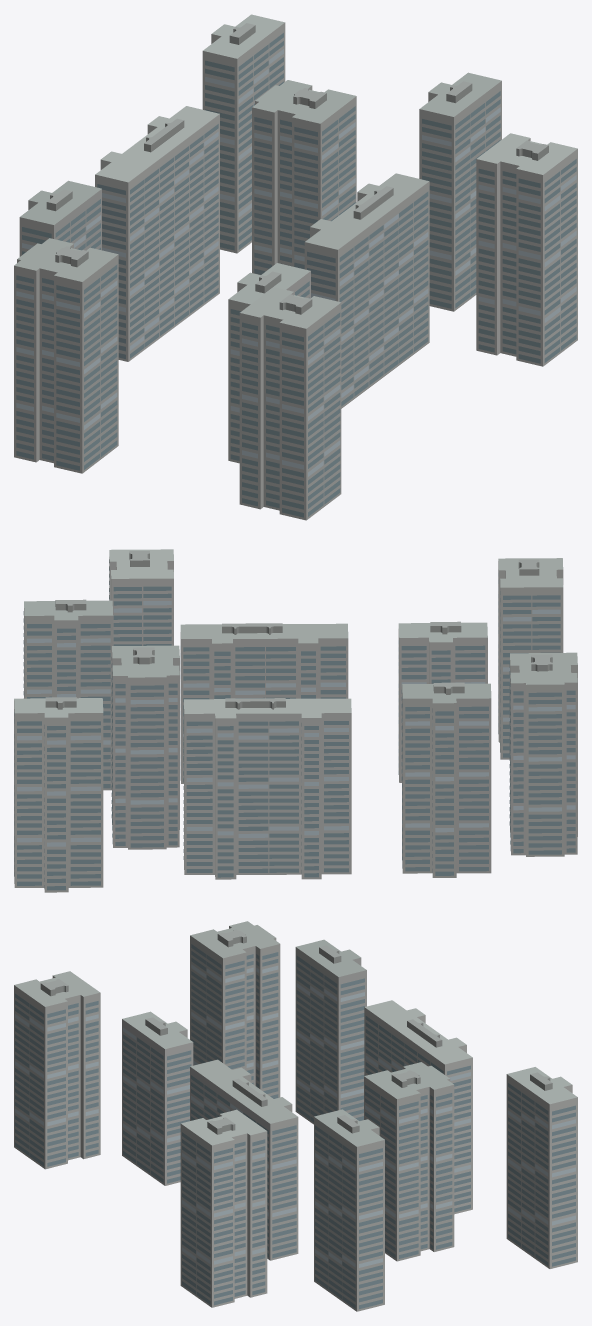
Rendered from apt-a13550502.glb.
3 views of the same model, one above another, from view 1: azimuth 30°, elevation 25°; view 2: azimuth 150°, elevation 25°; view 3: azimuth 270°, elevation 25° (orthographic). The views are drawn at different scales.
Parts seen in each view (by area): view 1: apt-a13550502; view 2: apt-a13550502; view 3: apt-a13550502.
Boxes of the visible parts, <box> form: apt-a13550502: <box>14,14,577,520</box>; apt-a13550502: <box>14,549,577,892</box>; apt-a13550502: <box>14,921,577,1311</box>.
Bounding box in the file's own units: 192 × 67 × 200.
